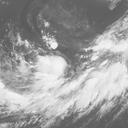cyclone: (32, 54, 95, 110)
